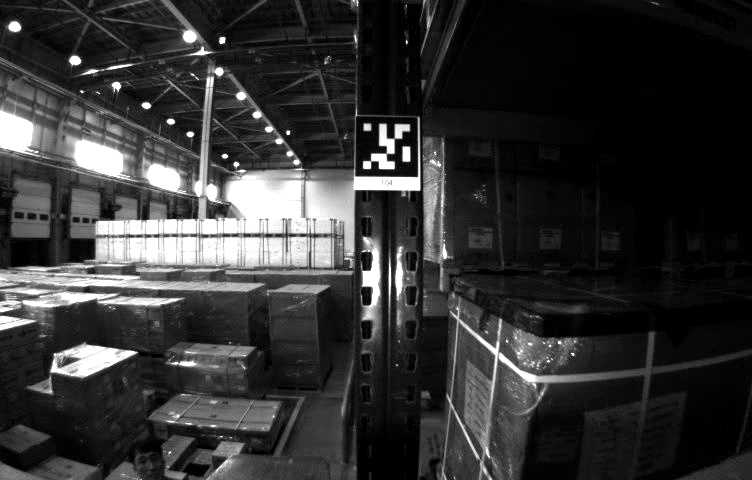True Barcode: (539, 426, 577, 461)
